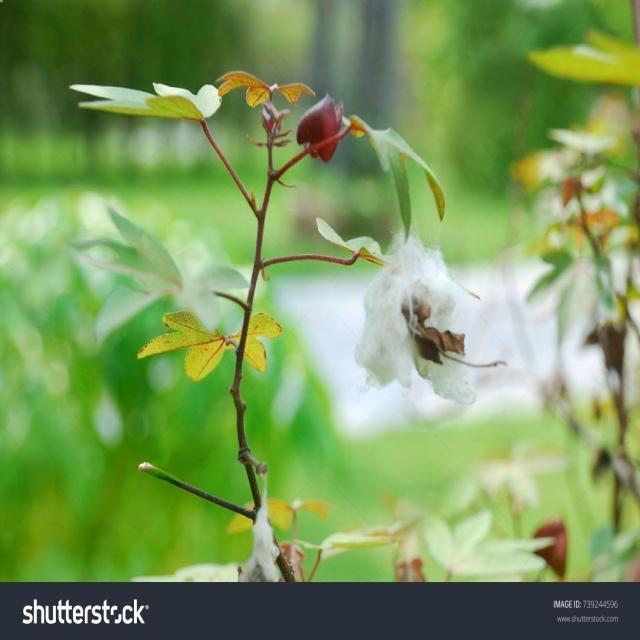Early_blight: (349, 234, 479, 412)
